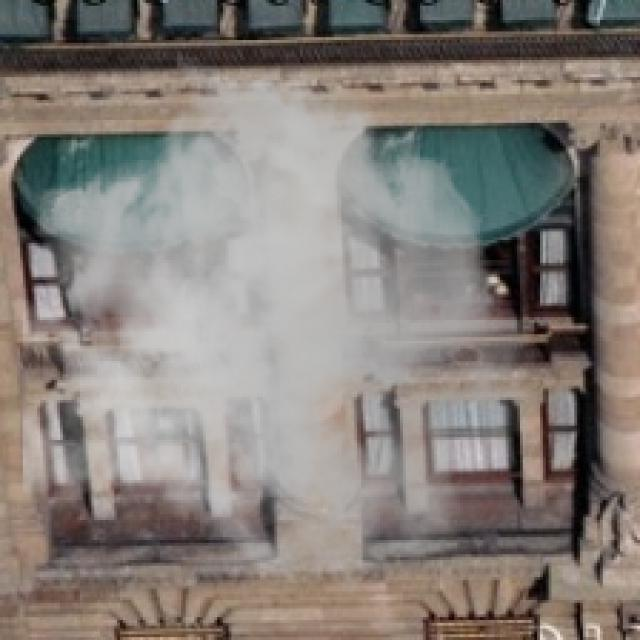smoke: (23, 54, 540, 597)
